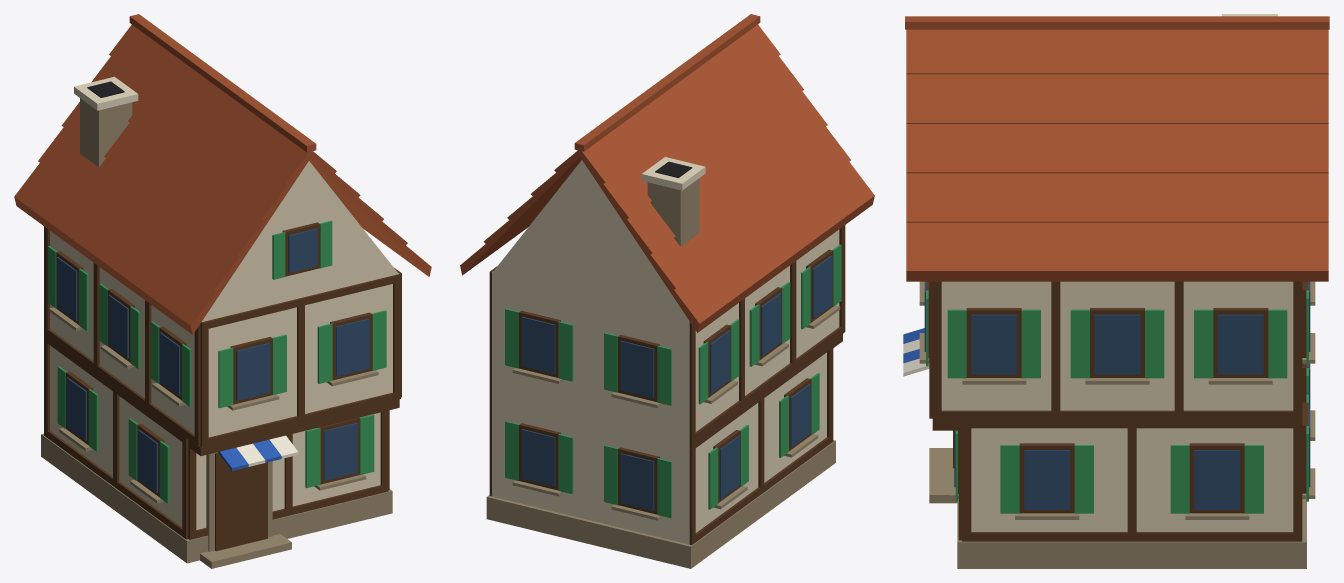
The model's file is House_10_Townhouse.fbx.
3 views of the same model, side by side, from view 1: azimuth 30°, elevation 25°; view 2: azimuth 150°, elevation 25°; view 3: azimuth 270°, elevation 25° (orthographic). The views are drawn at different scales.
Parts seen in each view (by area): view 1: House_10_Townhouse; view 2: House_10_Townhouse; view 3: House_10_Townhouse.
Boxes of the visible parts, <box> form: House_10_Townhouse: <box>14,14,431,568</box>; House_10_Townhouse: <box>460,14,874,568</box>; House_10_Townhouse: <box>903,14,1329,568</box>.
Size of the model in its own units: 5.09 by 8.26 by 6.52.
